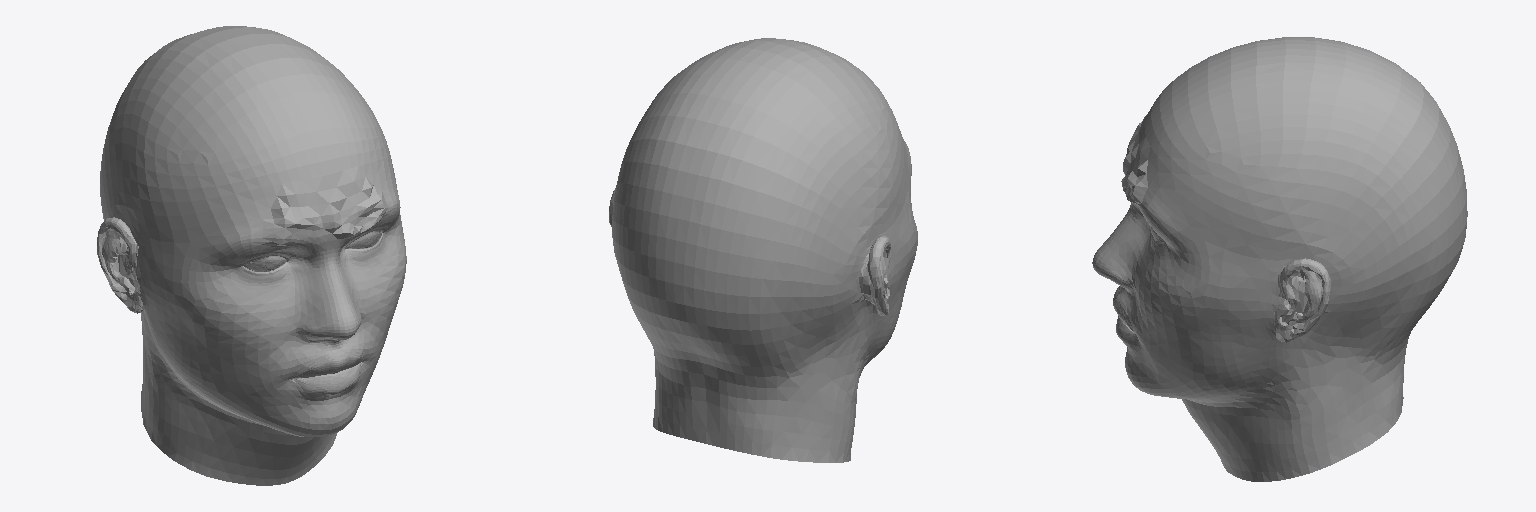
The model's file is White Girl Face1.obj.
The picture shows the model from 3 angles: view 1: azimuth 30°, elevation 25°; view 2: azimuth 150°, elevation 25°; view 3: azimuth 270°, elevation 25°; orthographic projection.
Parts seen in each view (by area): view 1: HeadHires; view 2: HeadHires; view 3: HeadHires.
Part boxes in pixels (x1,y1,x2,y2): HeadHires: (97, 26, 406, 485); HeadHires: (609, 38, 917, 462); HeadHires: (1092, 37, 1467, 481).
Size of the model in its own units: 195 by 283 by 233.